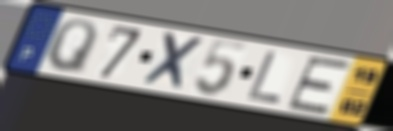5: (192, 37, 253, 99)
7: (96, 23, 146, 80)
E: (283, 55, 355, 116)
L: (244, 49, 284, 105)
Q: (42, 18, 100, 77)
X: (138, 30, 207, 93)
